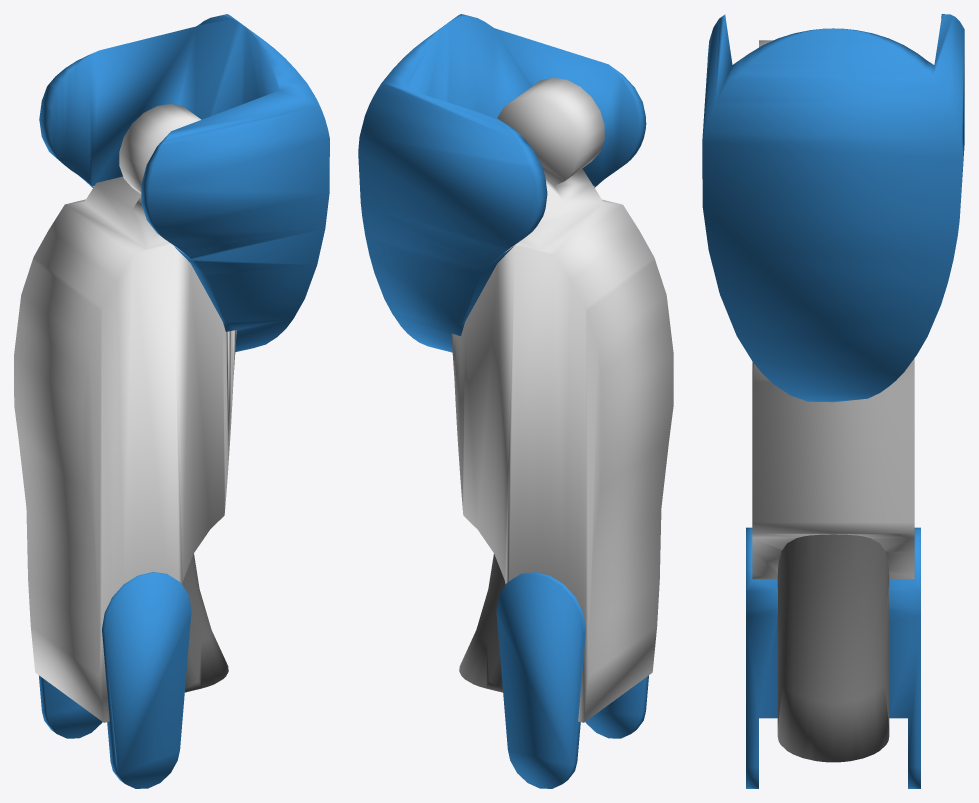
The model's file is KNEE_P.dae.
3 views of the same model, side by side, from view 1: azimuth 30°, elevation 25°; view 2: azimuth 150°, elevation 25°; view 3: azimuth 270°, elevation 25° (orthographic). The views are drawn at different scales.
Parts seen in each view (by area): view 1: ShapeIndexedFaceS_001_003, ShapeIndexedFaceS_007, ShapeIndexedFaceS_008; view 2: ShapeIndexedFaceS_001_003, ShapeIndexedFaceS_007, ShapeIndexedFaceS_008; view 3: ShapeIndexedFaceS_007, ShapeIndexedFaceS_001_003, ShapeIndexedFaceS_008.
Boxes of the visible parts, bbox=[...] form: ShapeIndexedFaceS_001_003: bbox=[14, 104, 236, 722]; ShapeIndexedFaceS_007: bbox=[39, 14, 329, 788]; ShapeIndexedFaceS_008: bbox=[182, 553, 228, 692]; ShapeIndexedFaceS_001_003: bbox=[451, 77, 673, 722]; ShapeIndexedFaceS_007: bbox=[358, 14, 648, 788]; ShapeIndexedFaceS_008: bbox=[459, 554, 505, 692]; ShapeIndexedFaceS_007: bbox=[702, 14, 964, 788]; ShapeIndexedFaceS_001_003: bbox=[752, 40, 914, 579]; ShapeIndexedFaceS_008: bbox=[777, 534, 889, 762].
Bounding box in the file's own units: 0.1409 × 0.12 × 0.4194.
